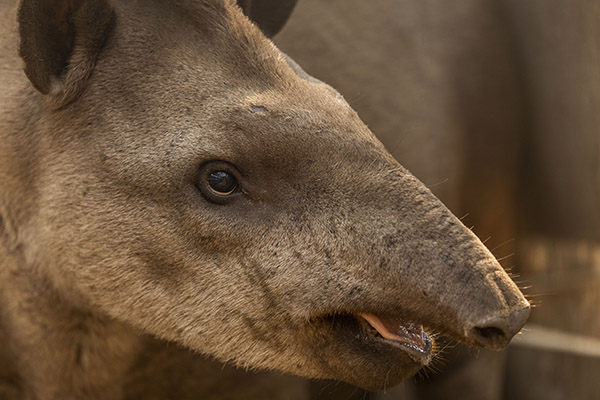Anta: (1, 1, 535, 398)
